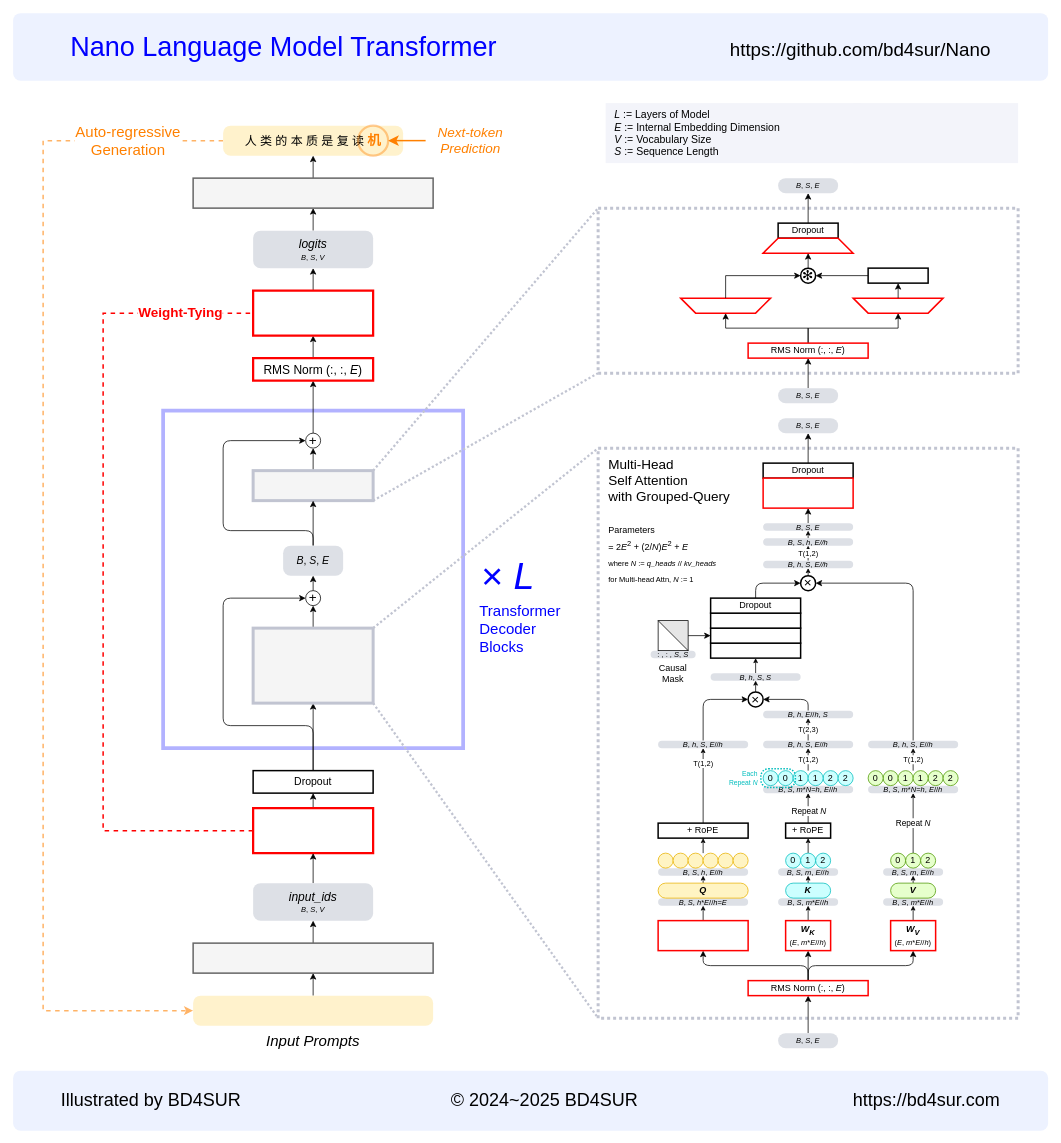
This 1061x1143 diagram has some shape labels left out. The shapes that lost their labels are listed below. From the top down, each one's box as (x1, y1, x2, y2) in pixels, then its label:
(853, 103, 1018, 163): h := Q Attention Heads m := KV Attention Heads N := h // m B := Batch Size
(192, 177, 434, 208): Softmax & Decode (Sample)
(762, 237, 854, 254): w2 ( H , E )
(596, 206, 1019, 374): Feed-Forward Network (SwiGLU) Hidden Dim H ≈ (8/3) E Parameters = 3 EH + E
(867, 267, 928, 284): SiLU (Swish)
(252, 289, 374, 336): token_classifier ( E , V )
(680, 297, 771, 314): w1 ( E , H )
(852, 297, 944, 314): w3 ( E , H )
(251, 469, 374, 502): MLP
(762, 477, 854, 508): c_proj ( E , E )
(710, 612, 801, 628): Softmax (dim=-1)
(710, 627, 801, 644): + Mask
(251, 626, 374, 704): Grouped Query Attention
(710, 642, 801, 658): scale(1/sqrt( E // h ))
(252, 807, 374, 854): token_embedding ( V , E )
(657, 920, 748, 951): W Q ( E , h * E // h )
(192, 942, 434, 974): Tokenize & Encode
(193, 995, 433, 1025): <|bos|> 人 类 的 本 质 是 复 读
